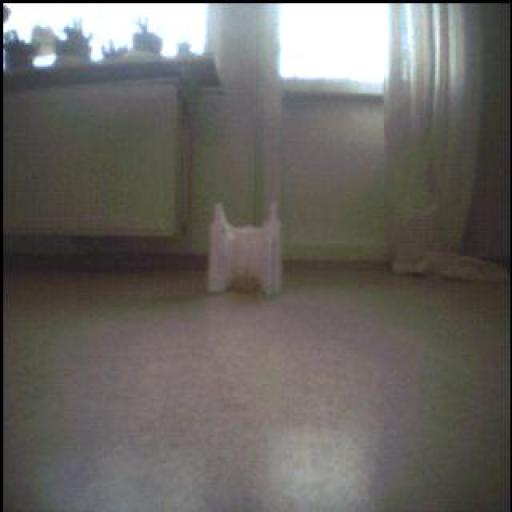Basket: (229, 259, 264, 298)
